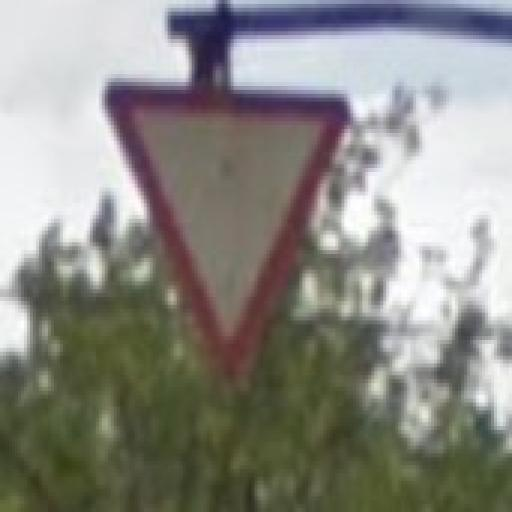traffic_sign: (106, 83, 351, 388)
